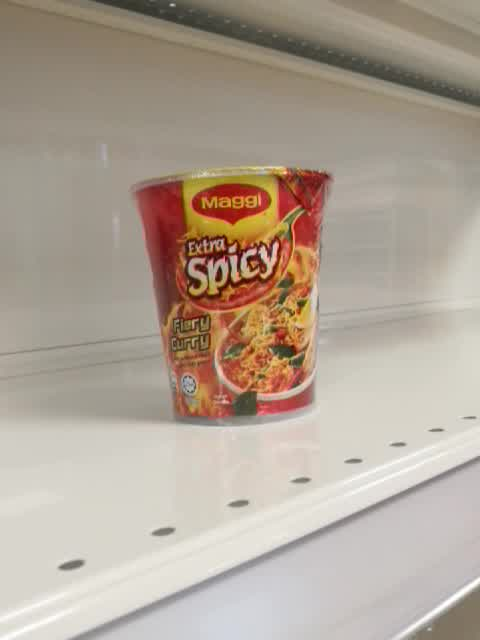maggi: (127, 164, 333, 428)
